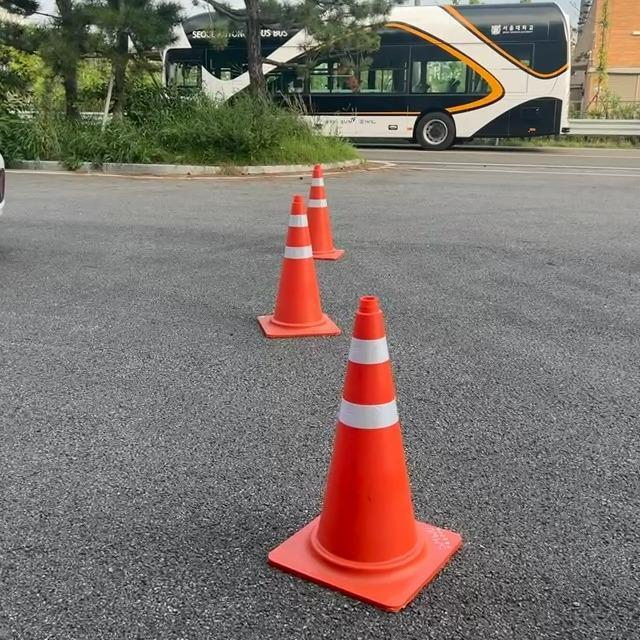fallen_object: (300, 290, 498, 611), (257, 176, 362, 361), (290, 136, 378, 279)
